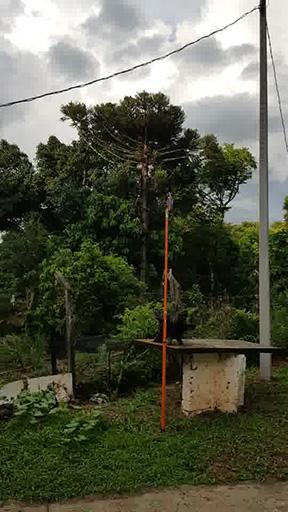Detector_Tensao_Contato: (167, 191, 173, 212)
Vara_Manobra: (160, 211, 169, 431)
